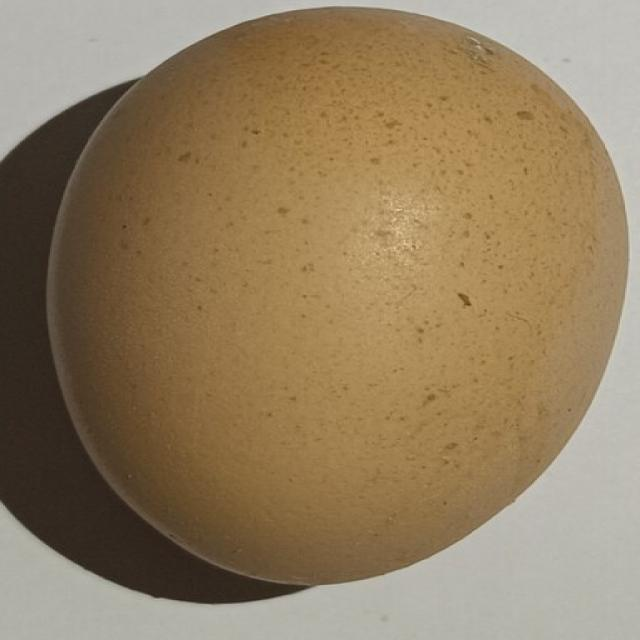unfresh: (33, 0, 640, 595)
